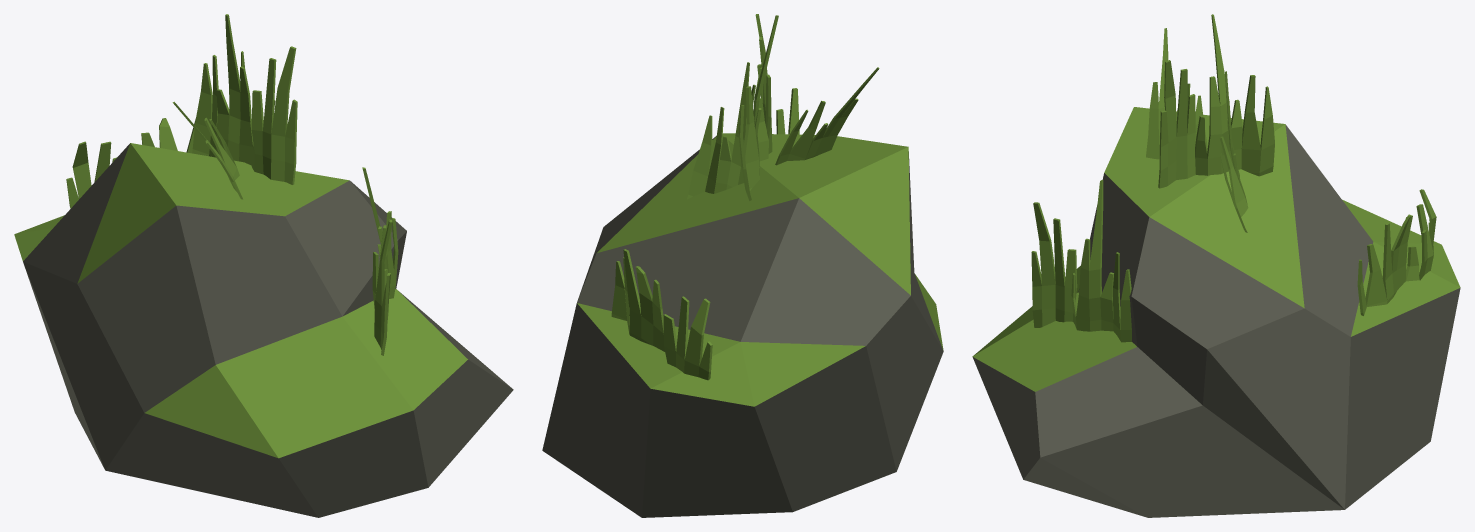
The model's file is green_rock_L_04.fbx.
The picture shows the model from 3 angles, left to right: view 1: azimuth 30°, elevation 25°; view 2: azimuth 150°, elevation 25°; view 3: azimuth 270°, elevation 25°; orthographic projection. The views are drawn at different scales.
Parts seen in each view (by area): view 1: Cube.025; view 2: Cube.025; view 3: Cube.025.
Boxes of the visible parts, x1,y1,x2,y2 form: Cube.025: [14, 14, 513, 517]; Cube.025: [542, 14, 943, 517]; Cube.025: [972, 14, 1460, 517].
Size of the model in its own units: 486 by 585 by 613.
